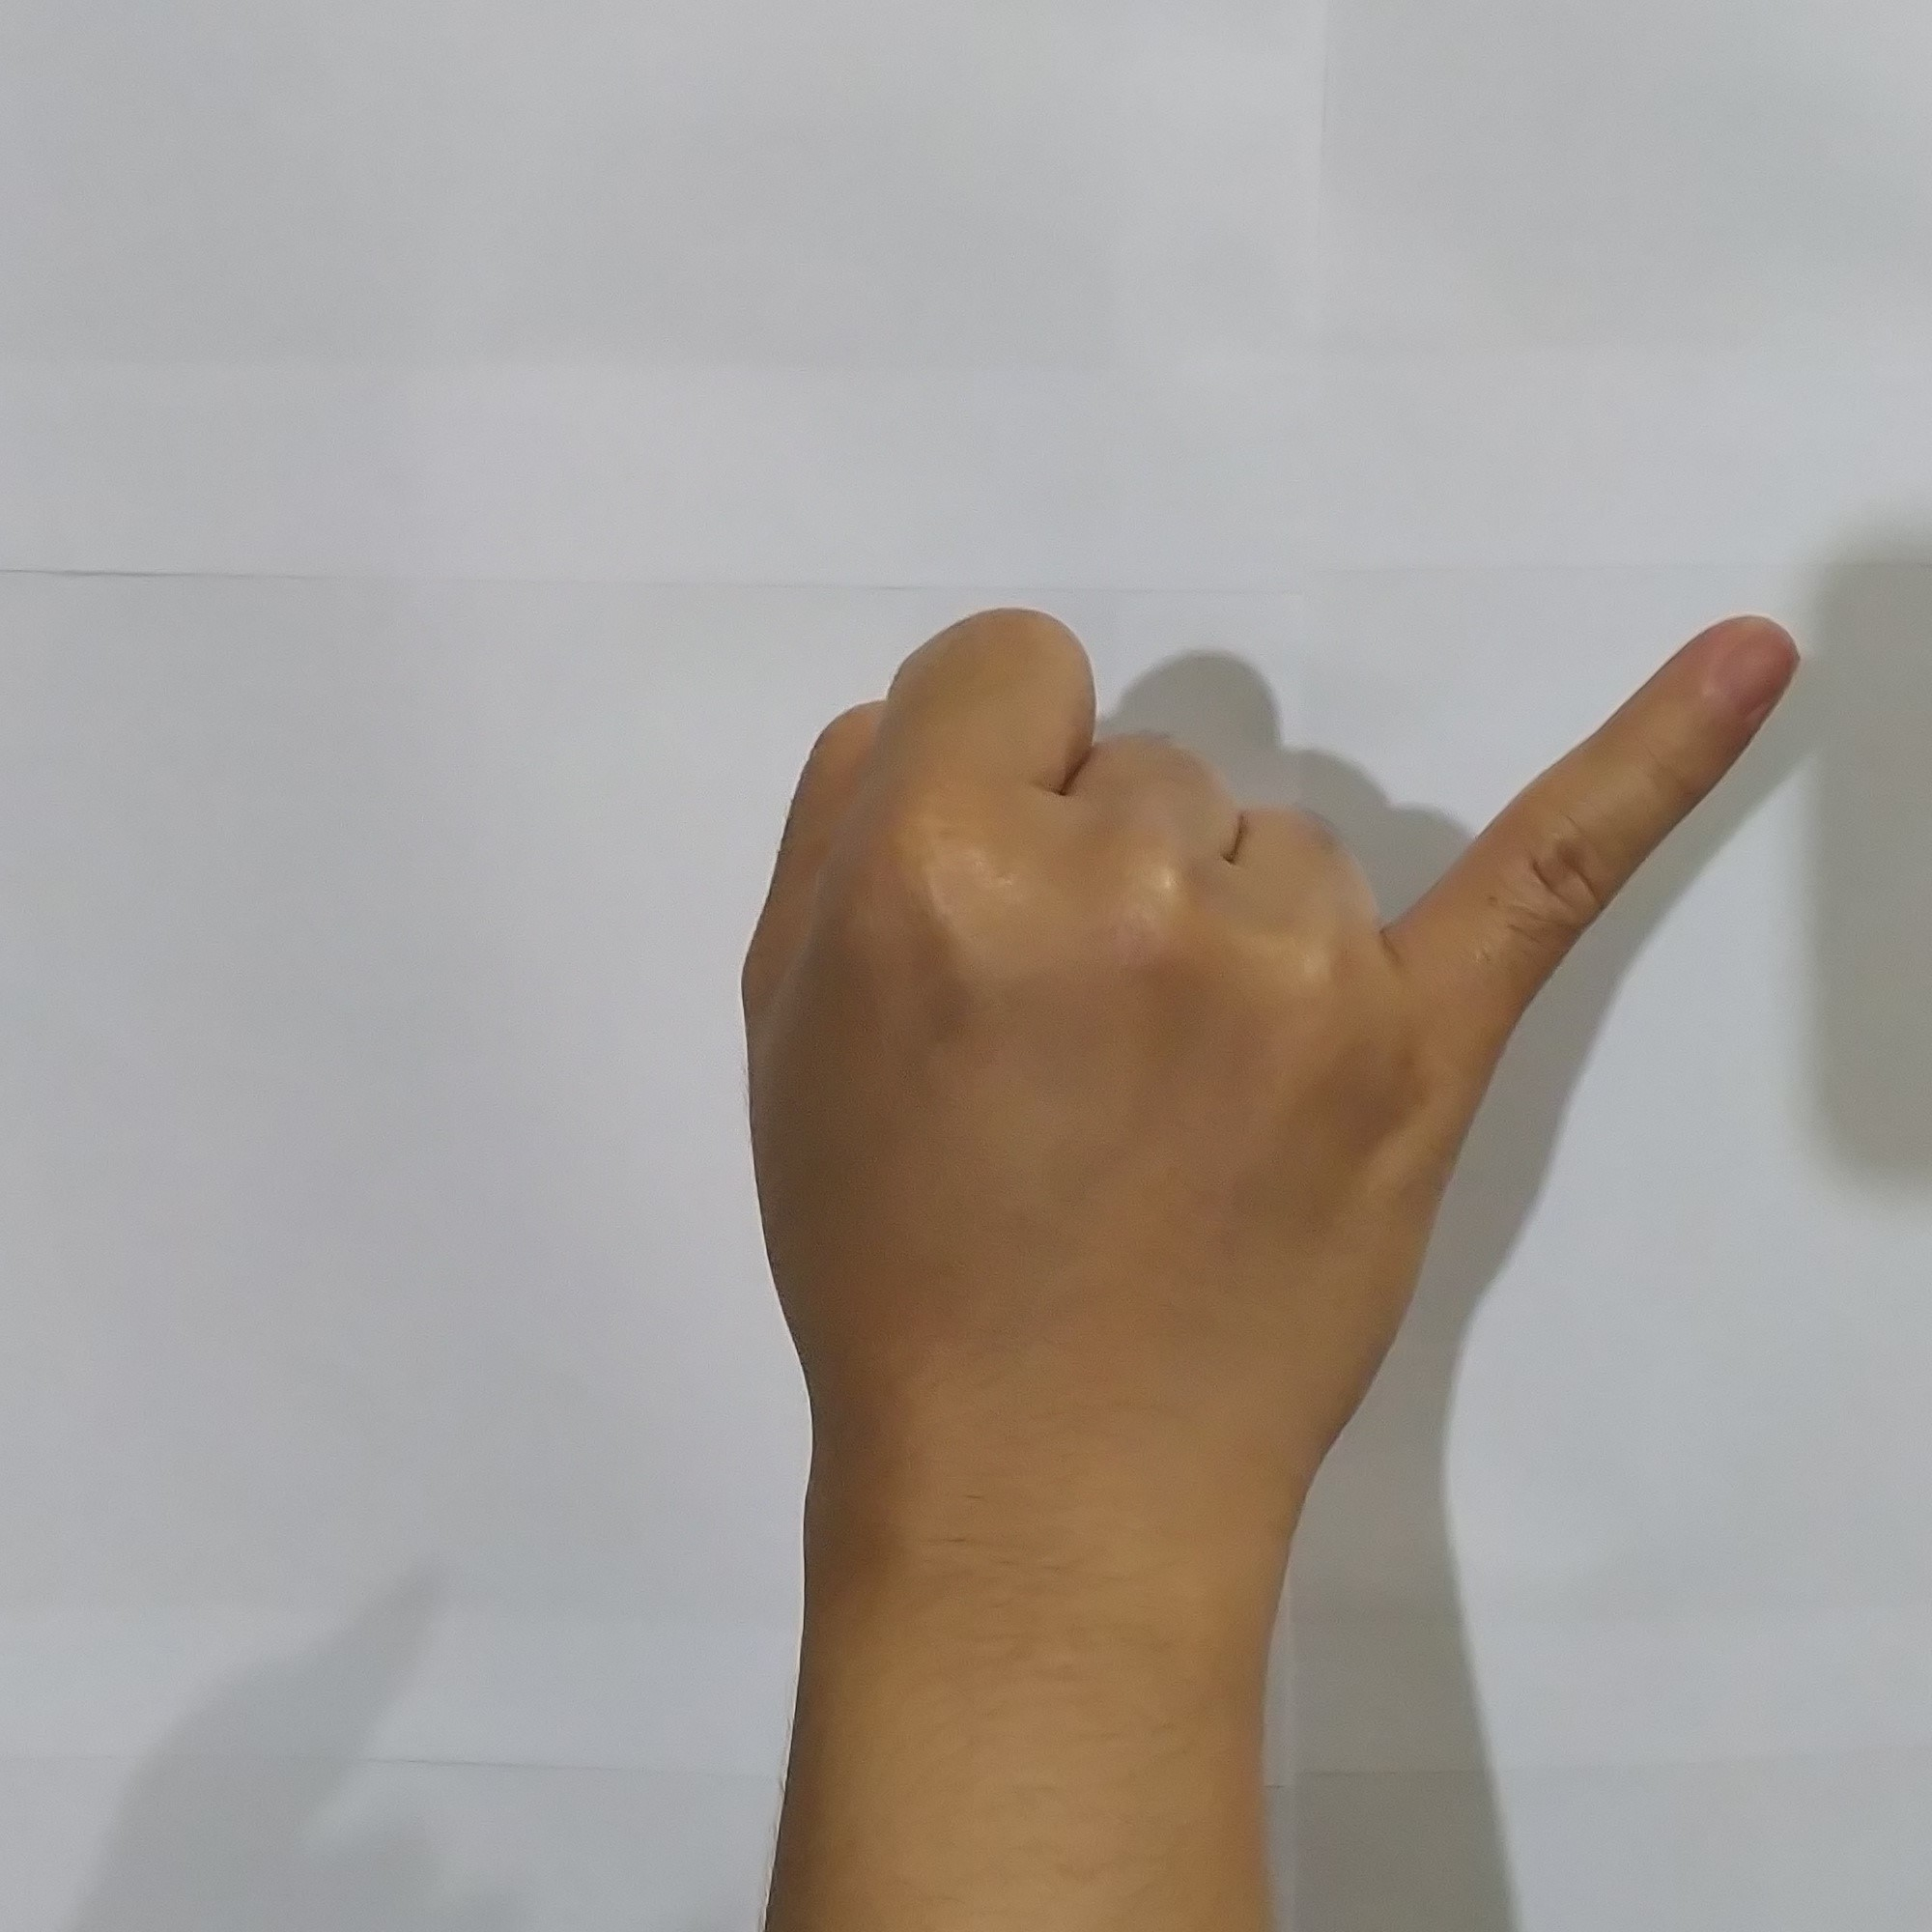J: (701, 577, 1815, 1428)
